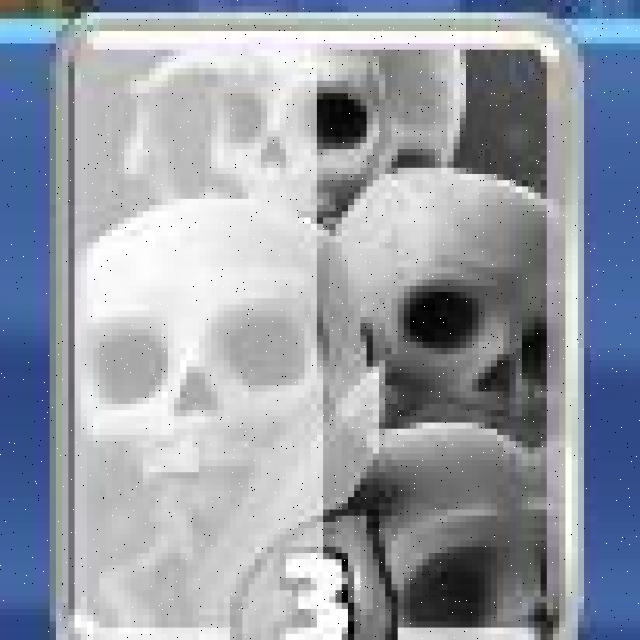Skeleton_Army: (48, 4, 575, 640)
